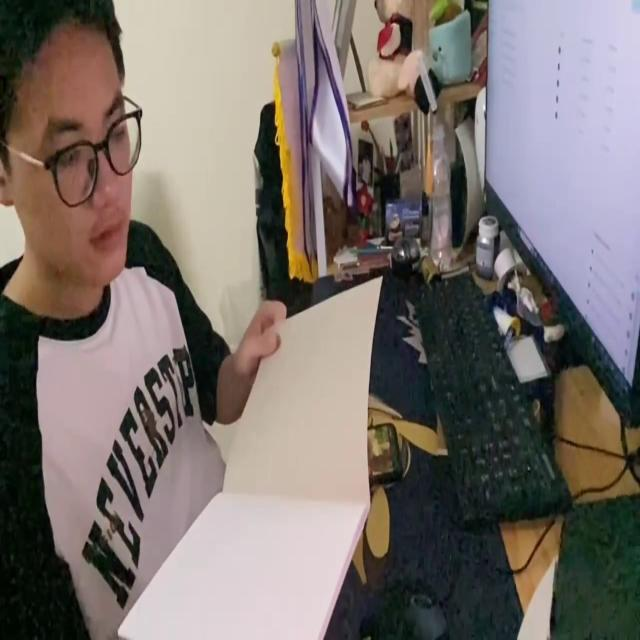book: (111, 268, 380, 640)
laptop: (479, 7, 640, 434)
student: (0, 0, 286, 640)
